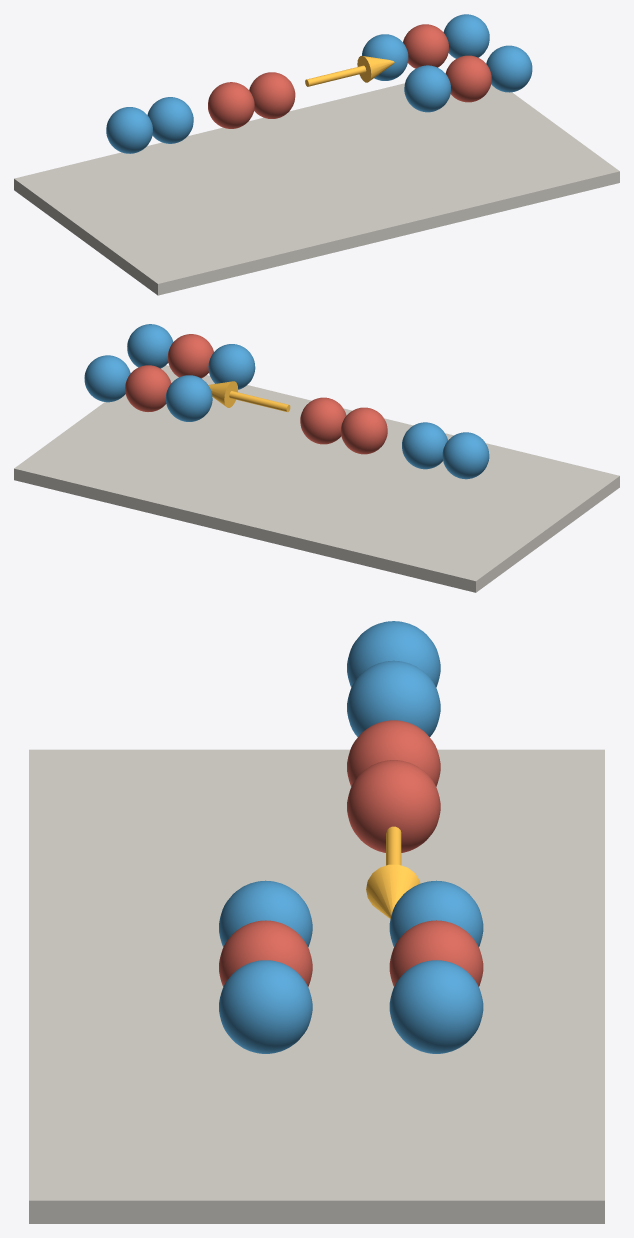
The model's file is chem-reaction-balanced-equation.glb.
The picture shows the model from 3 angles, top to bottom: view 1: azimuth 30°, elevation 25°; view 2: azimuth 150°, elevation 25°; view 3: azimuth 270°, elevation 25°; orthographic projection. The views are drawn at different scales.
Visible parts, largest first — view 1: reaction-base, atom-2 (×4), atom-1 (×4), atom-3 (×2), reaction-arrow-head, reaction-arrow-shaft; view 2: reaction-base, atom-1 (×4), atom-2 (×4), atom-3 (×2), reaction-arrow-head, reaction-arrow-shaft; view 3: reaction-base, atom-2 (×4), atom-1 (×4), atom-3 (×2), reaction-arrow-head.
Part boxes in pixels (x1,y1,x2,y2): reaction-base: (14, 83, 619, 295); atom-2 (×4): (147, 24, 491, 143); atom-1 (×4): (106, 34, 450, 153); atom-3 (×2): (443, 14, 532, 92); reaction-arrow-head: (357, 56, 394, 82); reaction-arrow-shaft: (305, 65, 366, 86); reaction-base: (14, 365, 619, 592); atom-1 (×4): (165, 344, 489, 479); atom-2 (×4): (125, 334, 447, 469); atom-3 (×2): (84, 324, 173, 402); reaction-arrow-head: (208, 381, 238, 407); reaction-arrow-shaft: (229, 391, 290, 412); reaction-base: (29, 749, 604, 1223); atom-2 (×4): (219, 660, 483, 986); atom-1 (×4): (219, 621, 483, 947); atom-3 (×2): (219, 960, 483, 1053); reaction-arrow-head: (366, 864, 420, 918).
Size of what is drawn, in the model's own units: 2.5 by 0.54 by 1.35.
